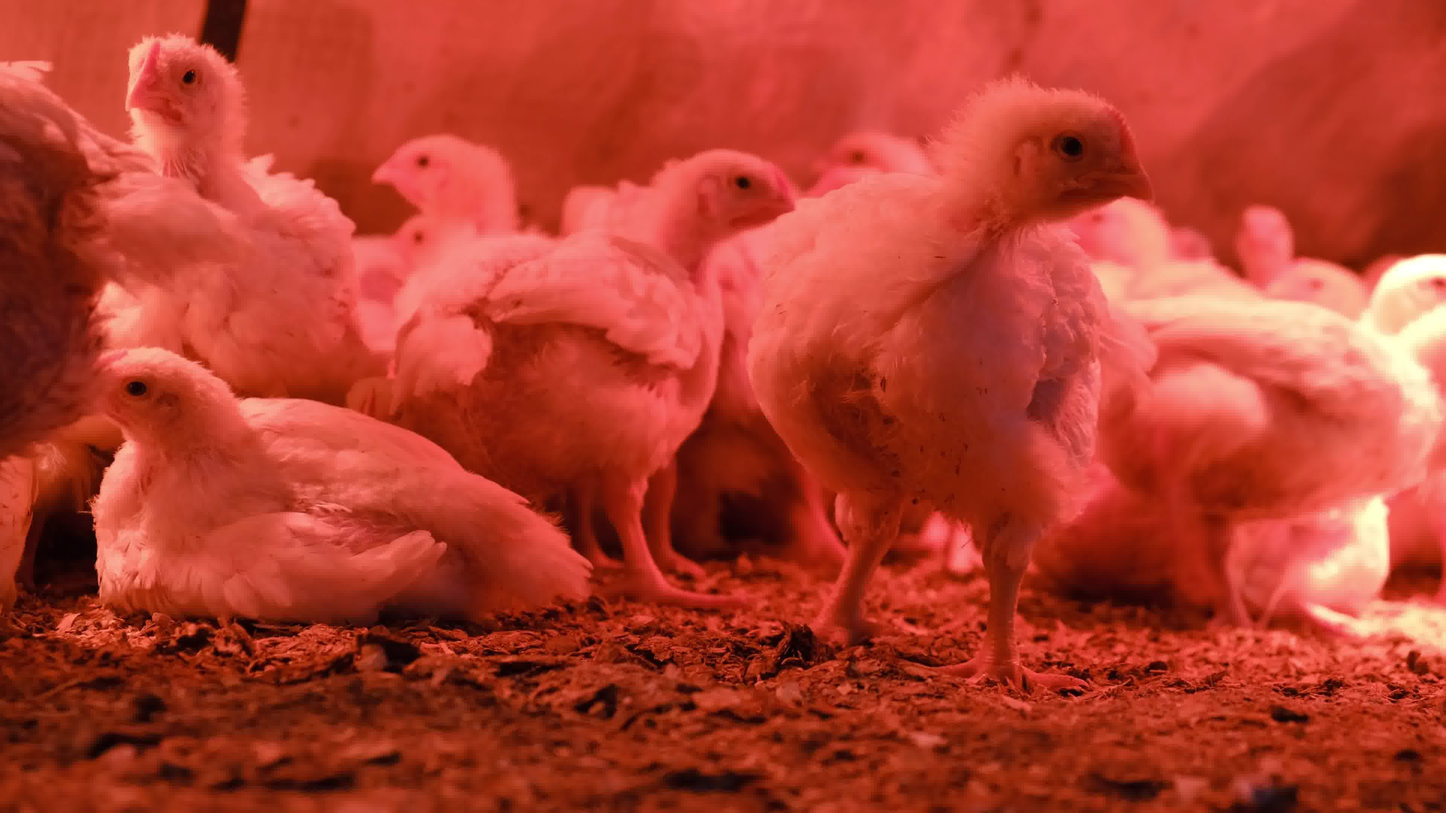AbNormal: (91, 348, 595, 625), (1054, 493, 1401, 631)
Normal: (745, 76, 1156, 700), (388, 143, 802, 595), (1084, 253, 1446, 643), (0, 53, 238, 461), (117, 32, 358, 396), (369, 136, 522, 259), (1060, 196, 1177, 282), (810, 125, 929, 191), (1222, 192, 1292, 288), (1269, 254, 1371, 312), (392, 211, 459, 270)
